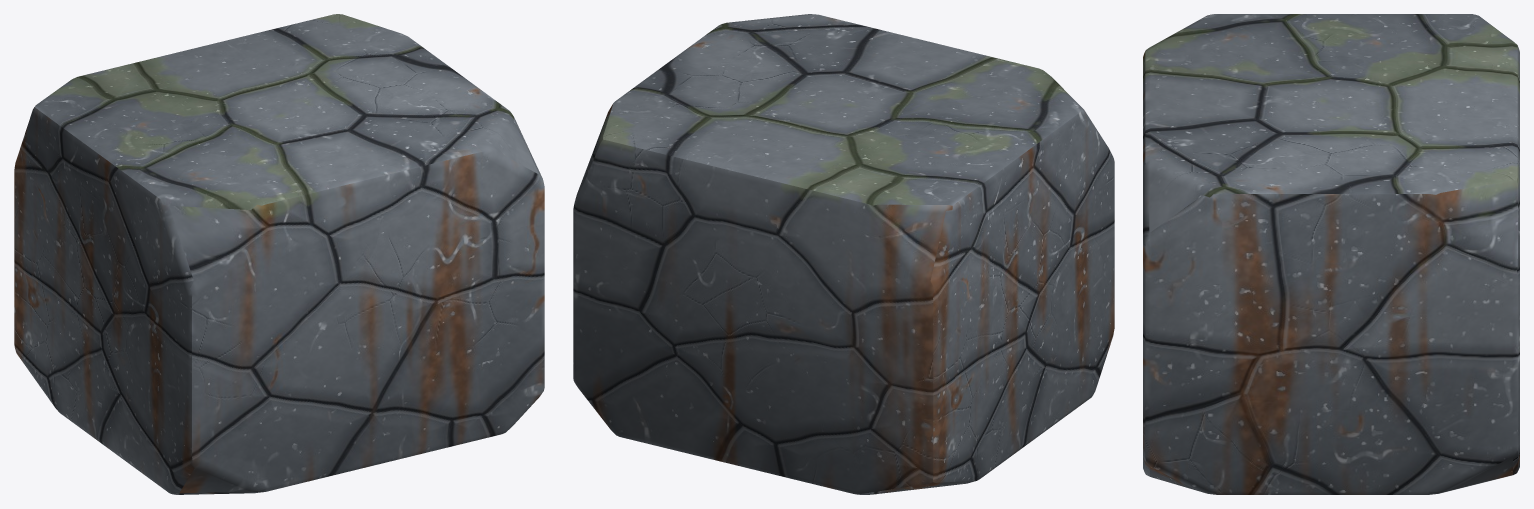
File: rock_metal_large_b.glb
3 views of the same model, side by side, from view 1: azimuth 30°, elevation 25°; view 2: azimuth 150°, elevation 25°; view 3: azimuth 270°, elevation 25° (orthographic). The views are drawn at different scales.
Visible parts, largest first — view 1: RockMetal_large_b; view 2: RockMetal_large_b; view 3: RockMetal_large_b.
Part boxes in pixels (x1=…): RockMetal_large_b: x1=14, y1=14, x2=544, y2=494; RockMetal_large_b: x1=573, y1=14, x2=1114, y2=494; RockMetal_large_b: x1=1143, y1=14, x2=1519, y2=494.
Size of the model in its own units: 1.6 by 1.25 by 1.4.
Materials: 1 (1 with a texture image).
